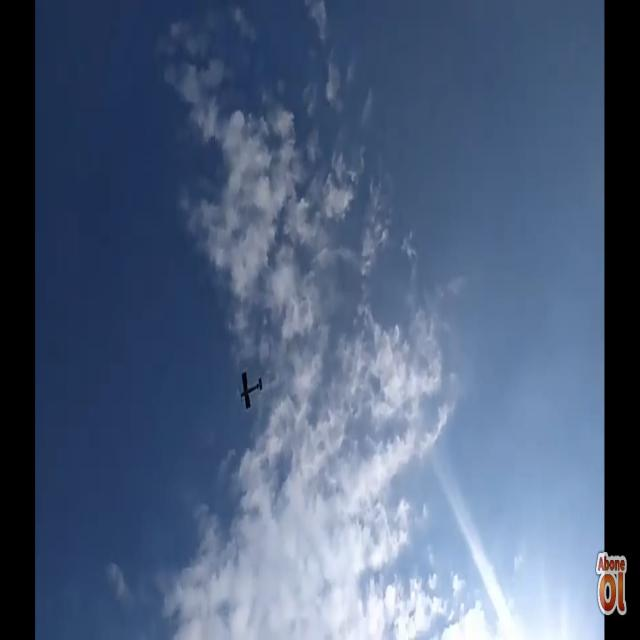iha: (238, 369, 262, 411)
